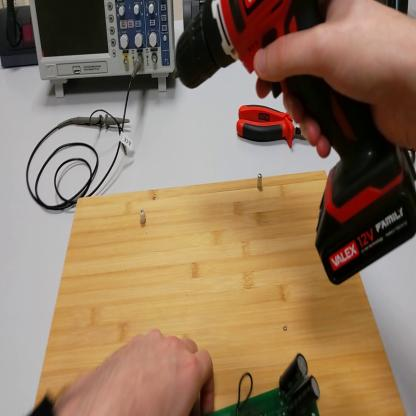electric screwdriver: (174, 2, 416, 286)
hand: (255, 3, 416, 150), (59, 327, 217, 415)
high voltage board: (201, 355, 320, 416)
oscilloscope: (29, 3, 178, 98)
oscilloscope probe tip: (71, 110, 130, 131)
pliers: (235, 100, 309, 149)
socket: (2, 5, 40, 72)
working area: (35, 173, 407, 415)
